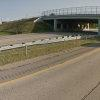Bridge: (35, 2, 100, 31)
